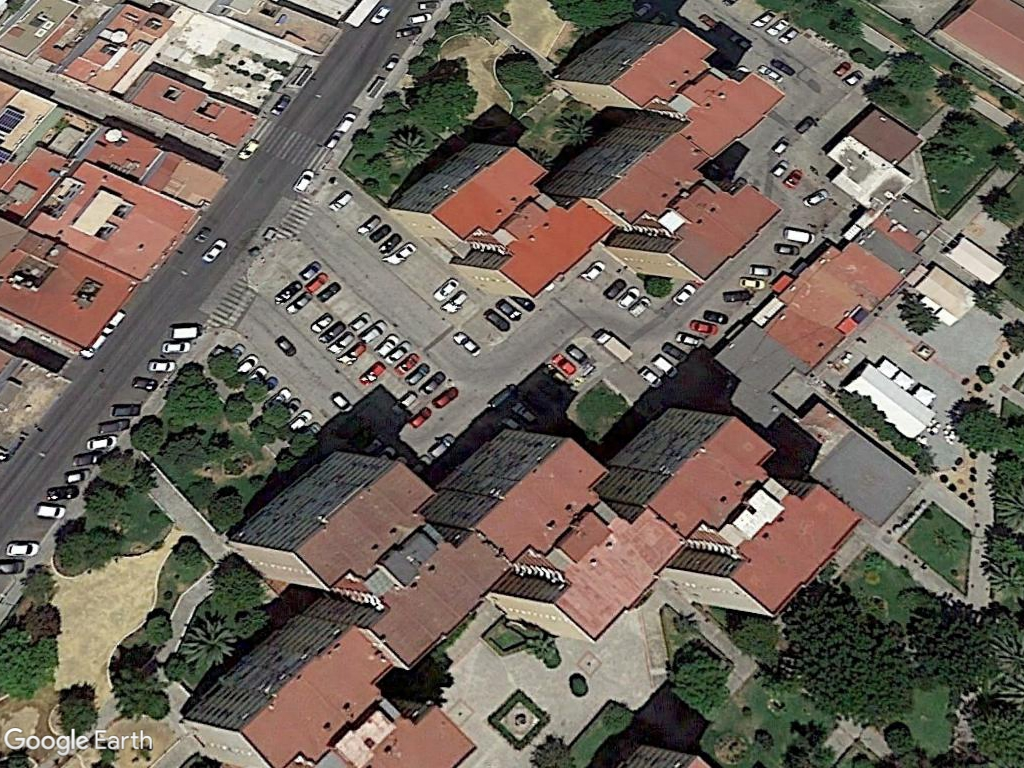truck: (591, 326, 637, 365)
van: (781, 225, 820, 246), (168, 322, 208, 340)
